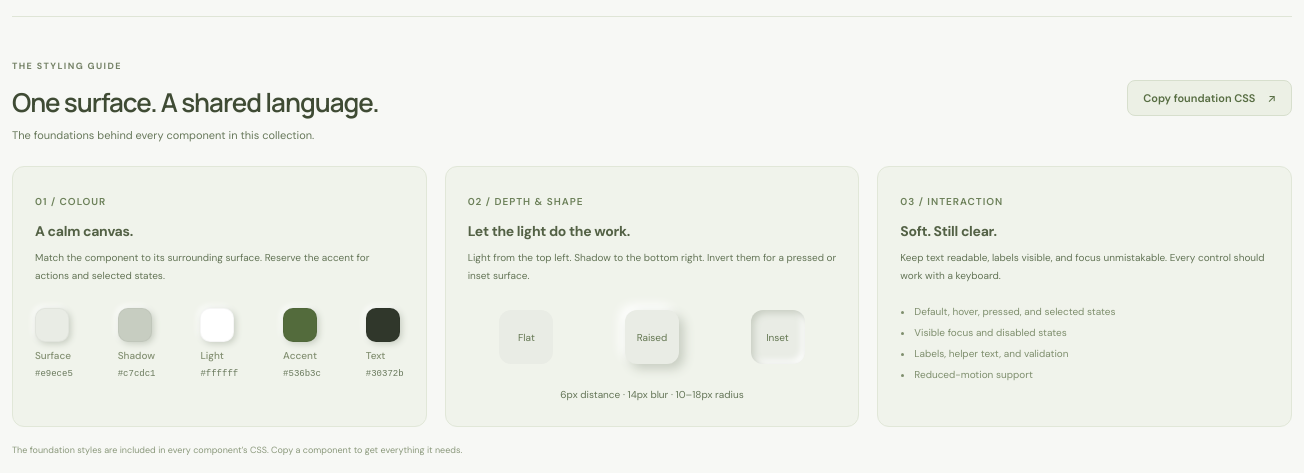
Test: Styling guide › explains how to recover when copying is unavailable
What coordinates should you click on to do the following:
click the button "Copy foundation CSS ↗"
I would click on:
 (1210, 98)
Its box is [1127,80,1292,116].
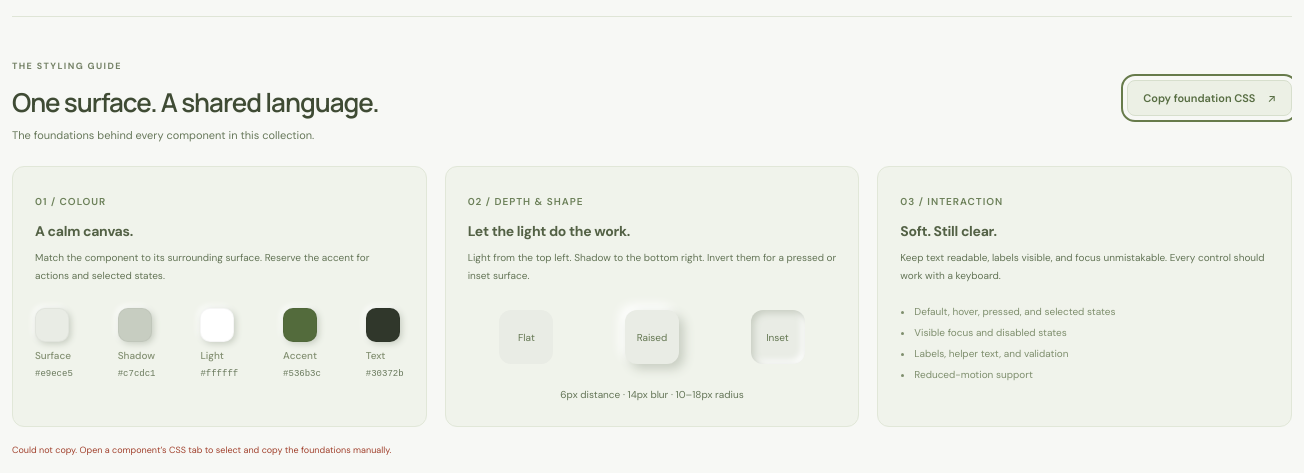
Now the message shows "copy the foundations manually", box [12,444,391,456]
